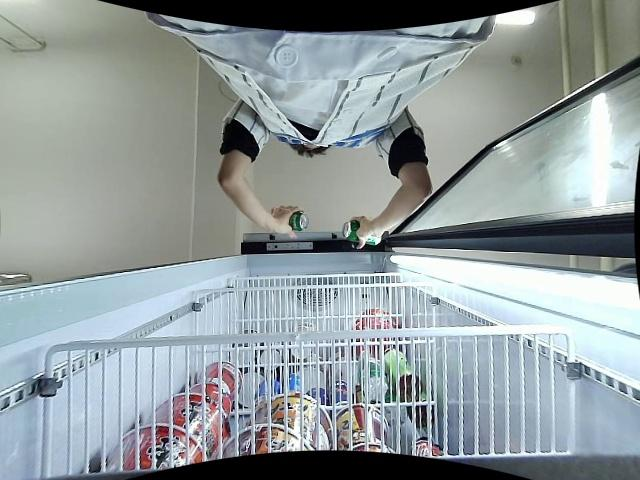00_hand: (349, 215, 383, 253), (271, 203, 302, 240)
12_chilsungCider: (344, 219, 383, 247), (290, 212, 309, 233)
